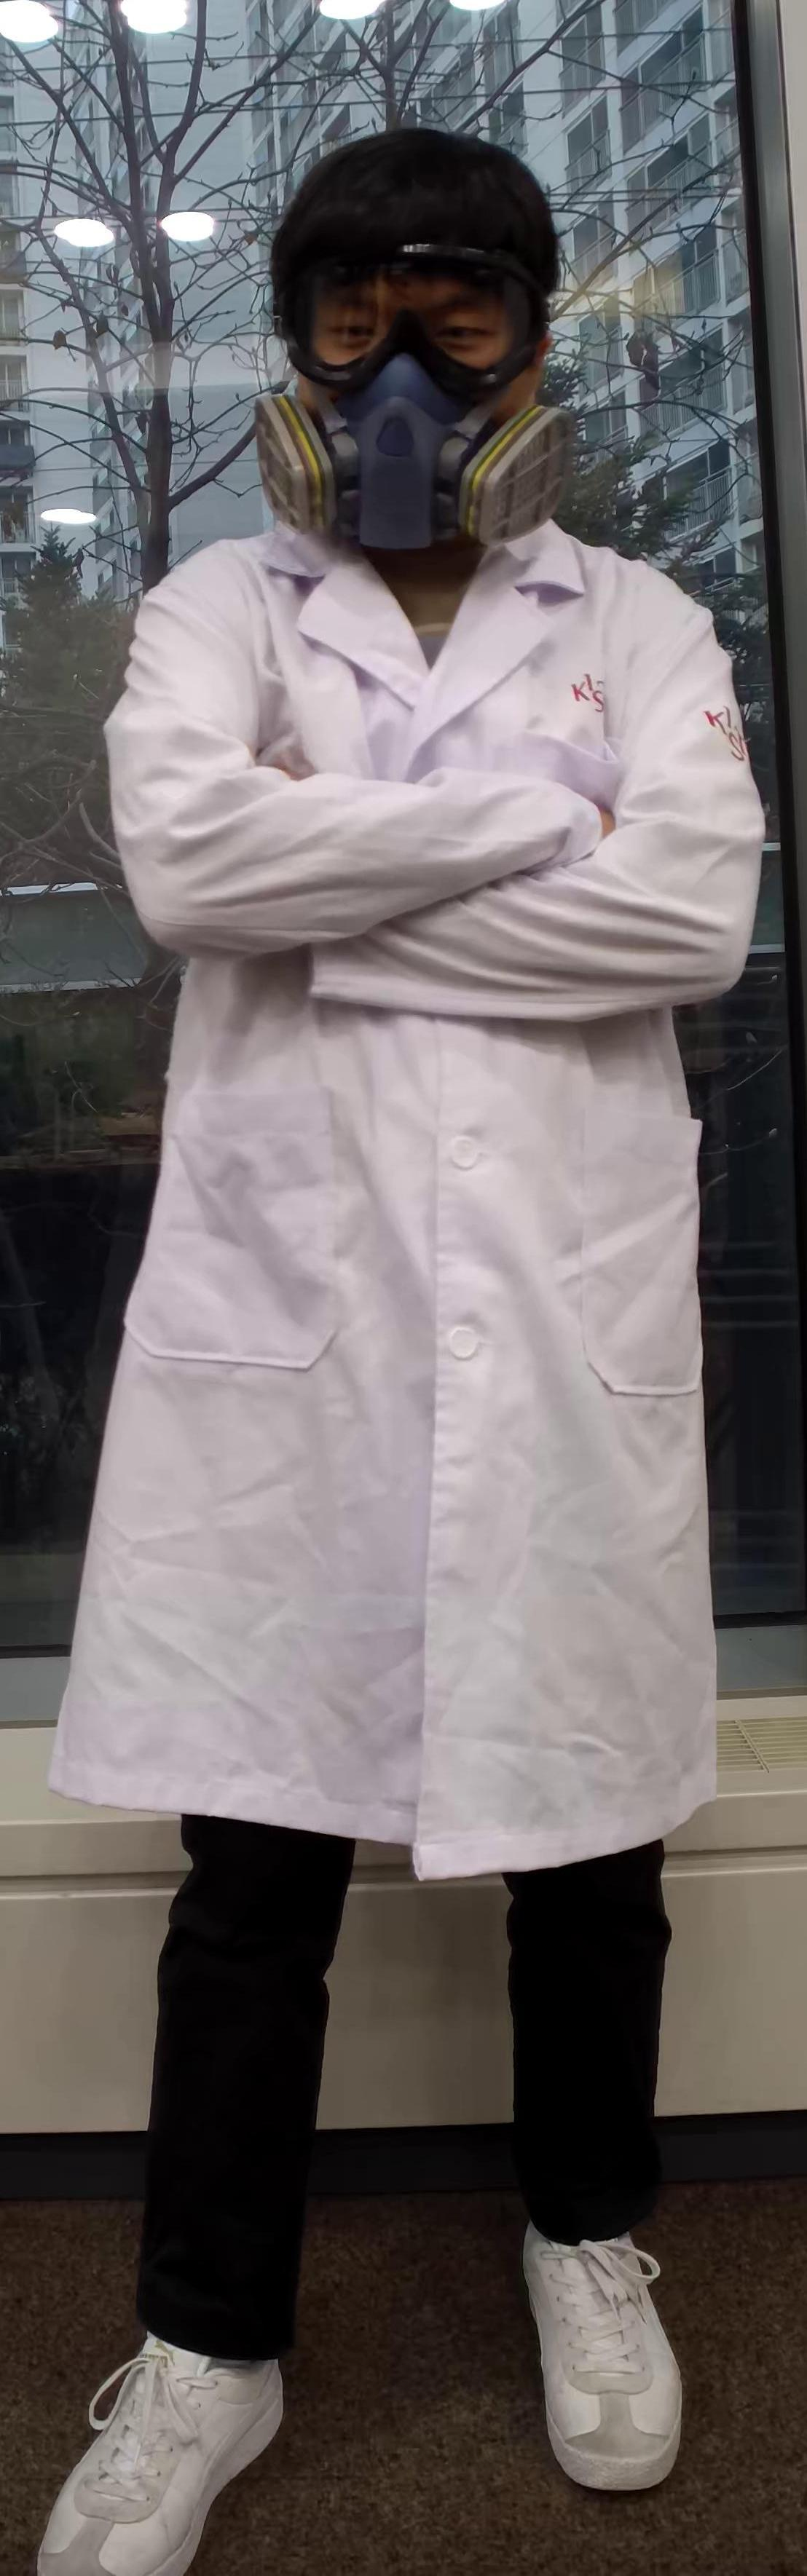lab_coat: (20, 519, 782, 1878)
